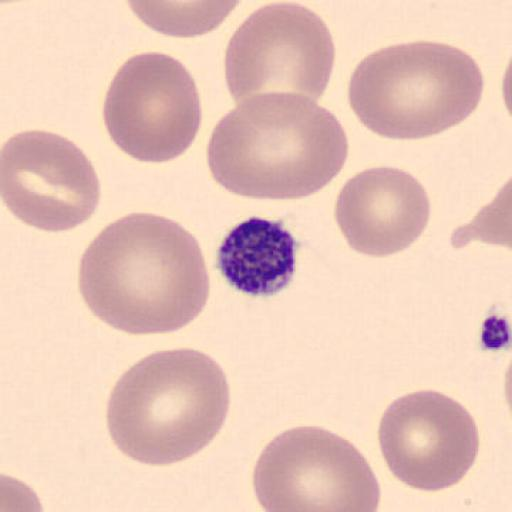Platelet: (214, 214, 301, 299)
RBC: (77, 210, 210, 339), (205, 90, 351, 202), (105, 345, 232, 467), (346, 40, 486, 141), (222, 0, 338, 114), (100, 49, 204, 165), (251, 423, 382, 512), (376, 386, 482, 494), (2, 128, 103, 234), (333, 163, 432, 260), (123, 0, 246, 39), (476, 172, 512, 253), (1, 472, 45, 512), (502, 342, 512, 444), (502, 38, 512, 134), (500, 53, 512, 128)
